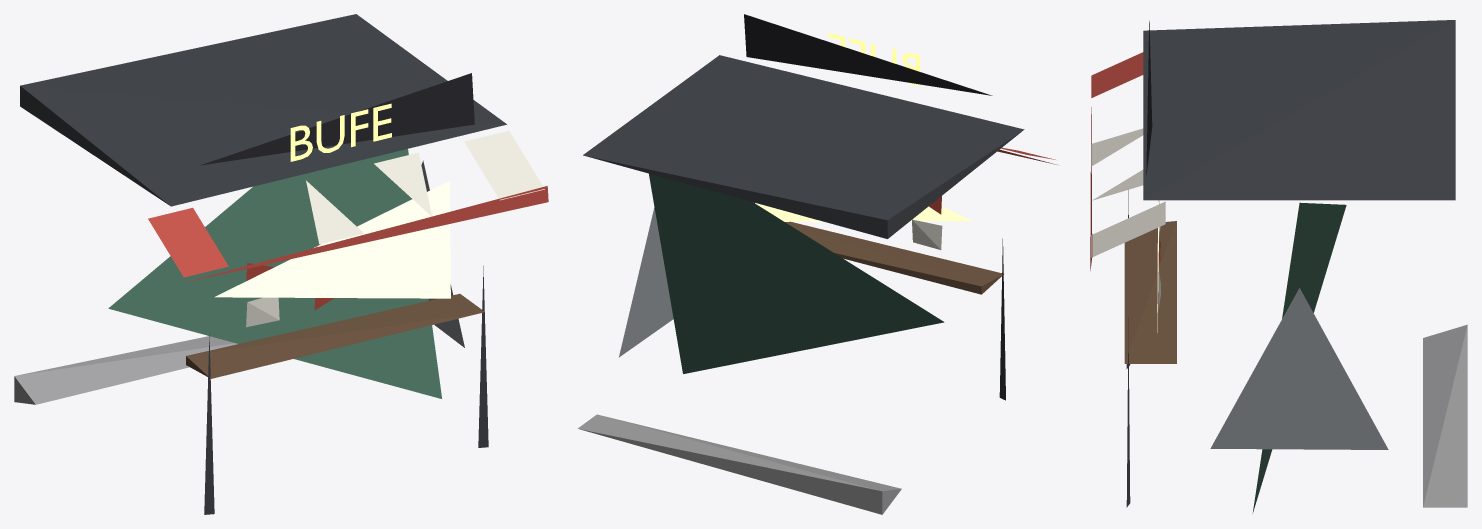
The model's file is prop_street_kiosk_lod1.glb.
3 views of the same model, side by side, from view 1: azimuth 30°, elevation 25°; view 2: azimuth 150°, elevation 25°; view 3: azimuth 270°, elevation 25° (orthographic). The views are drawn at different scales.
Parts seen in each view (by area): view 1: kiosk_trim_lod1, kiosk_body_lod1, kiosk_window_glow_lod1, kiosk_awning_lod1, kiosk_sign_box_lod1, kiosk_sign_neon_lod1; view 2: kiosk_trim_lod1, kiosk_body_lod1, kiosk_sign_box_lod1, kiosk_shutter_lod1, kiosk_window_glow_lod1, kiosk_sign_neon_lod1; view 3: kiosk_trim_lod1, kiosk_shutter_lod1, kiosk_awning_lod1, kiosk_body_lod1, kiosk_sign_box_lod1.
Part boxes in pixels (x1,y1,x2,y2): kiosk_trim_lod1: [14, 14, 506, 514]; kiosk_body_lod1: [108, 149, 441, 398]; kiosk_window_glow_lod1: [214, 181, 450, 298]; kiosk_awning_lod1: [148, 130, 548, 282]; kiosk_sign_box_lod1: [200, 73, 474, 165]; kiosk_sign_neon_lod1: [290, 103, 391, 161]; kiosk_trim_lod1: [577, 55, 1024, 514]; kiosk_body_lod1: [649, 173, 944, 373]; kiosk_sign_box_lod1: [744, 14, 992, 95]; kiosk_shutter_lod1: [619, 207, 673, 357]; kiosk_window_glow_lod1: [758, 204, 971, 221]; kiosk_sign_neon_lod1: [828, 33, 919, 85]; kiosk_trim_lod1: [1124, 20, 1467, 507]; kiosk_shutter_lod1: [1210, 288, 1388, 449]; kiosk_awning_lod1: [1090, 52, 1165, 270]; kiosk_body_lod1: [1252, 202, 1346, 513]; kiosk_sign_box_lod1: [1146, 21, 1152, 176].
Size of the model in its own units: 2.95 by 2.81 by 2.54.
